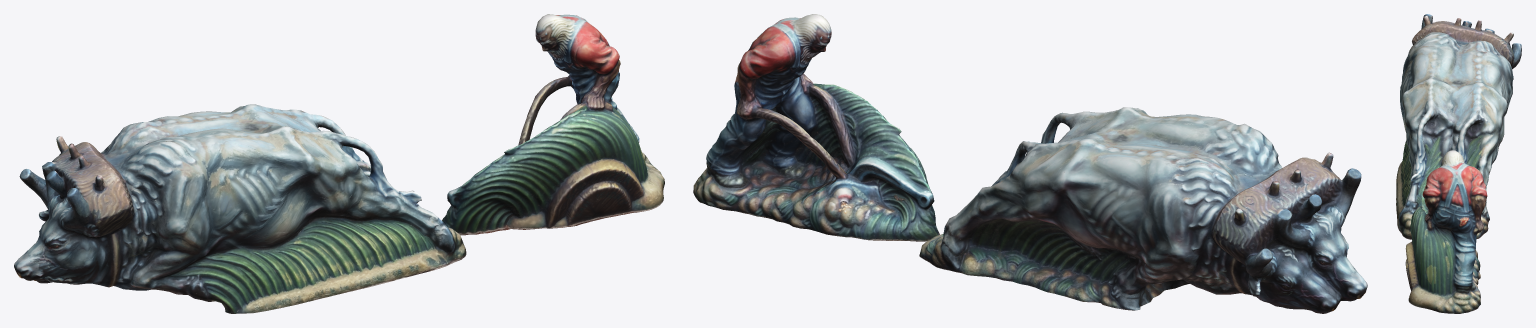
The model's file is Sodbuster.glb.
3 views of the same model, side by side, from view 1: azimuth 30°, elevation 25°; view 2: azimuth 150°, elevation 25°; view 3: azimuth 270°, elevation 25° (orthographic). The views are drawn at different scales.
Parts seen in each view (by area): view 1: Sodbuster_Bull_low, Sodbuster_Man_low; view 2: Sodbuster_Bull_low, Sodbuster_Man_low; view 3: Sodbuster_Bull_low, Sodbuster_Man_low.
Part boxes in pixels (x1,y1,x2,y2): Sodbuster_Bull_low: (14, 104, 466, 313); Sodbuster_Man_low: (442, 14, 664, 235); Sodbuster_Bull_low: (919, 107, 1367, 313); Sodbuster_Man_low: (693, 14, 939, 241); Sodbuster_Bull_low: (1396, 14, 1521, 239); Sodbuster_Man_low: (1405, 150, 1487, 313).
Size of the model in its own units: 6.12 by 1.71 by 1.54.
Materials: 1 (1 with a texture image).
